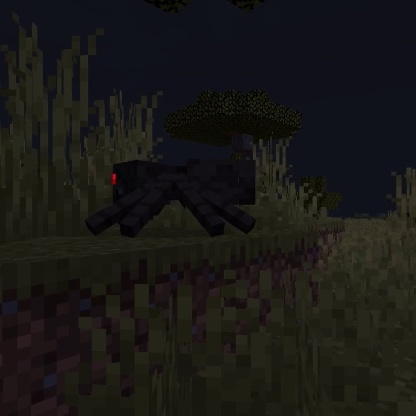spider: (82, 154, 262, 240)
